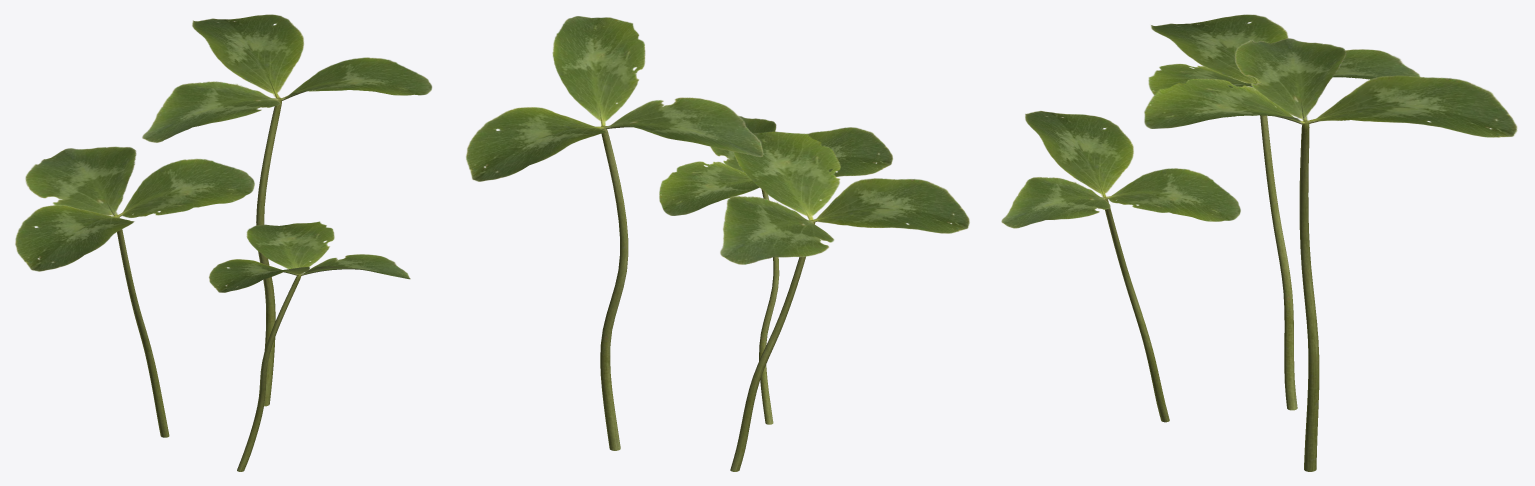
Rendered from clover-planter.glb.
The picture shows the model from 3 angles, left to right: view 1: azimuth 30°, elevation 25°; view 2: azimuth 150°, elevation 25°; view 3: azimuth 270°, elevation 25°; orthographic projection. The views are drawn at different scales.
Parts seen in each view (by area): view 1: clover_spring_hero_clover_spring_0; view 2: clover_spring_hero_clover_spring_0; view 3: clover_spring_hero_clover_spring_0.
Boxes of the visible parts, box(x1,y1,x2,y2) form: clover_spring_hero_clover_spring_0: box(15, 14, 432, 471); clover_spring_hero_clover_spring_0: box(466, 16, 969, 471); clover_spring_hero_clover_spring_0: box(1001, 14, 1517, 471).
Bounding box in the file's own units: 2.33 × 1.98 × 2.29.
1 material, 1 textured.
